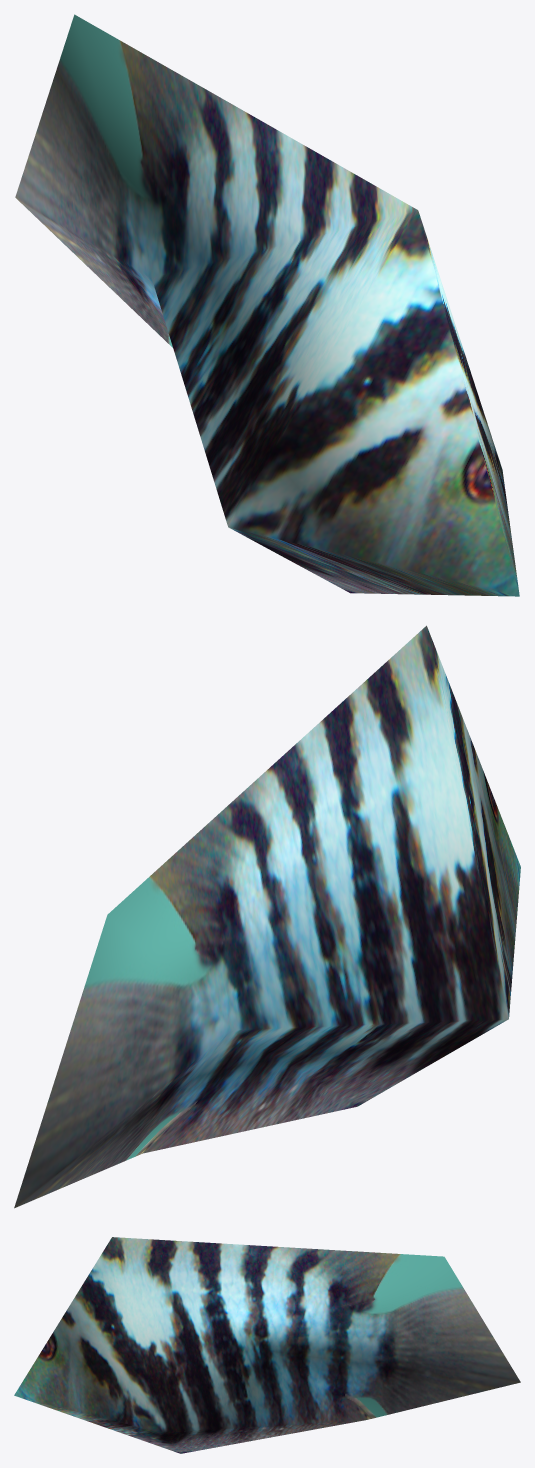
File: TropicalFish06.fbx
3 views of the same model, one above another, from view 1: azimuth 30°, elevation 25°; view 2: azimuth 150°, elevation 25°; view 3: azimuth 270°, elevation 25° (orthographic). The views are drawn at different scales.
Visible parts, largest first — view 1: TropicalFish06_Export; view 2: TropicalFish06_Export; view 3: TropicalFish06_Export.
Boxes of the visible parts, x1,y1,x2,y2 form: TropicalFish06_Export: [15, 14, 519, 596]; TropicalFish06_Export: [14, 625, 520, 1208]; TropicalFish06_Export: [14, 1237, 520, 1453].
Size of the model in its own units: 0.0874 by 0.1355 by 0.2872.
